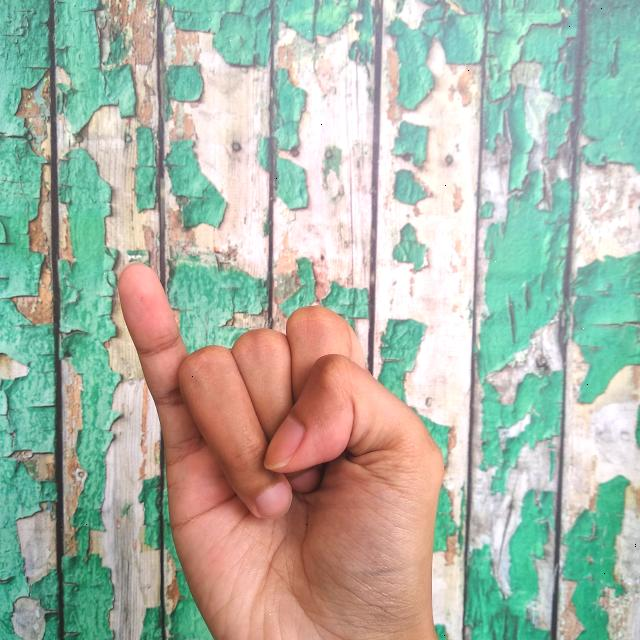I: (113, 258, 451, 640)
